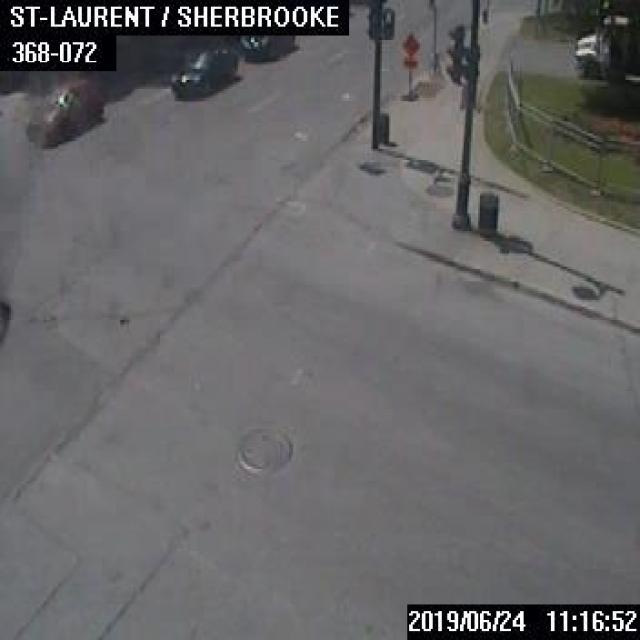construction: (400, 31, 418, 99)
vehicle: (22, 69, 104, 147), (168, 38, 236, 96), (238, 31, 295, 60)
